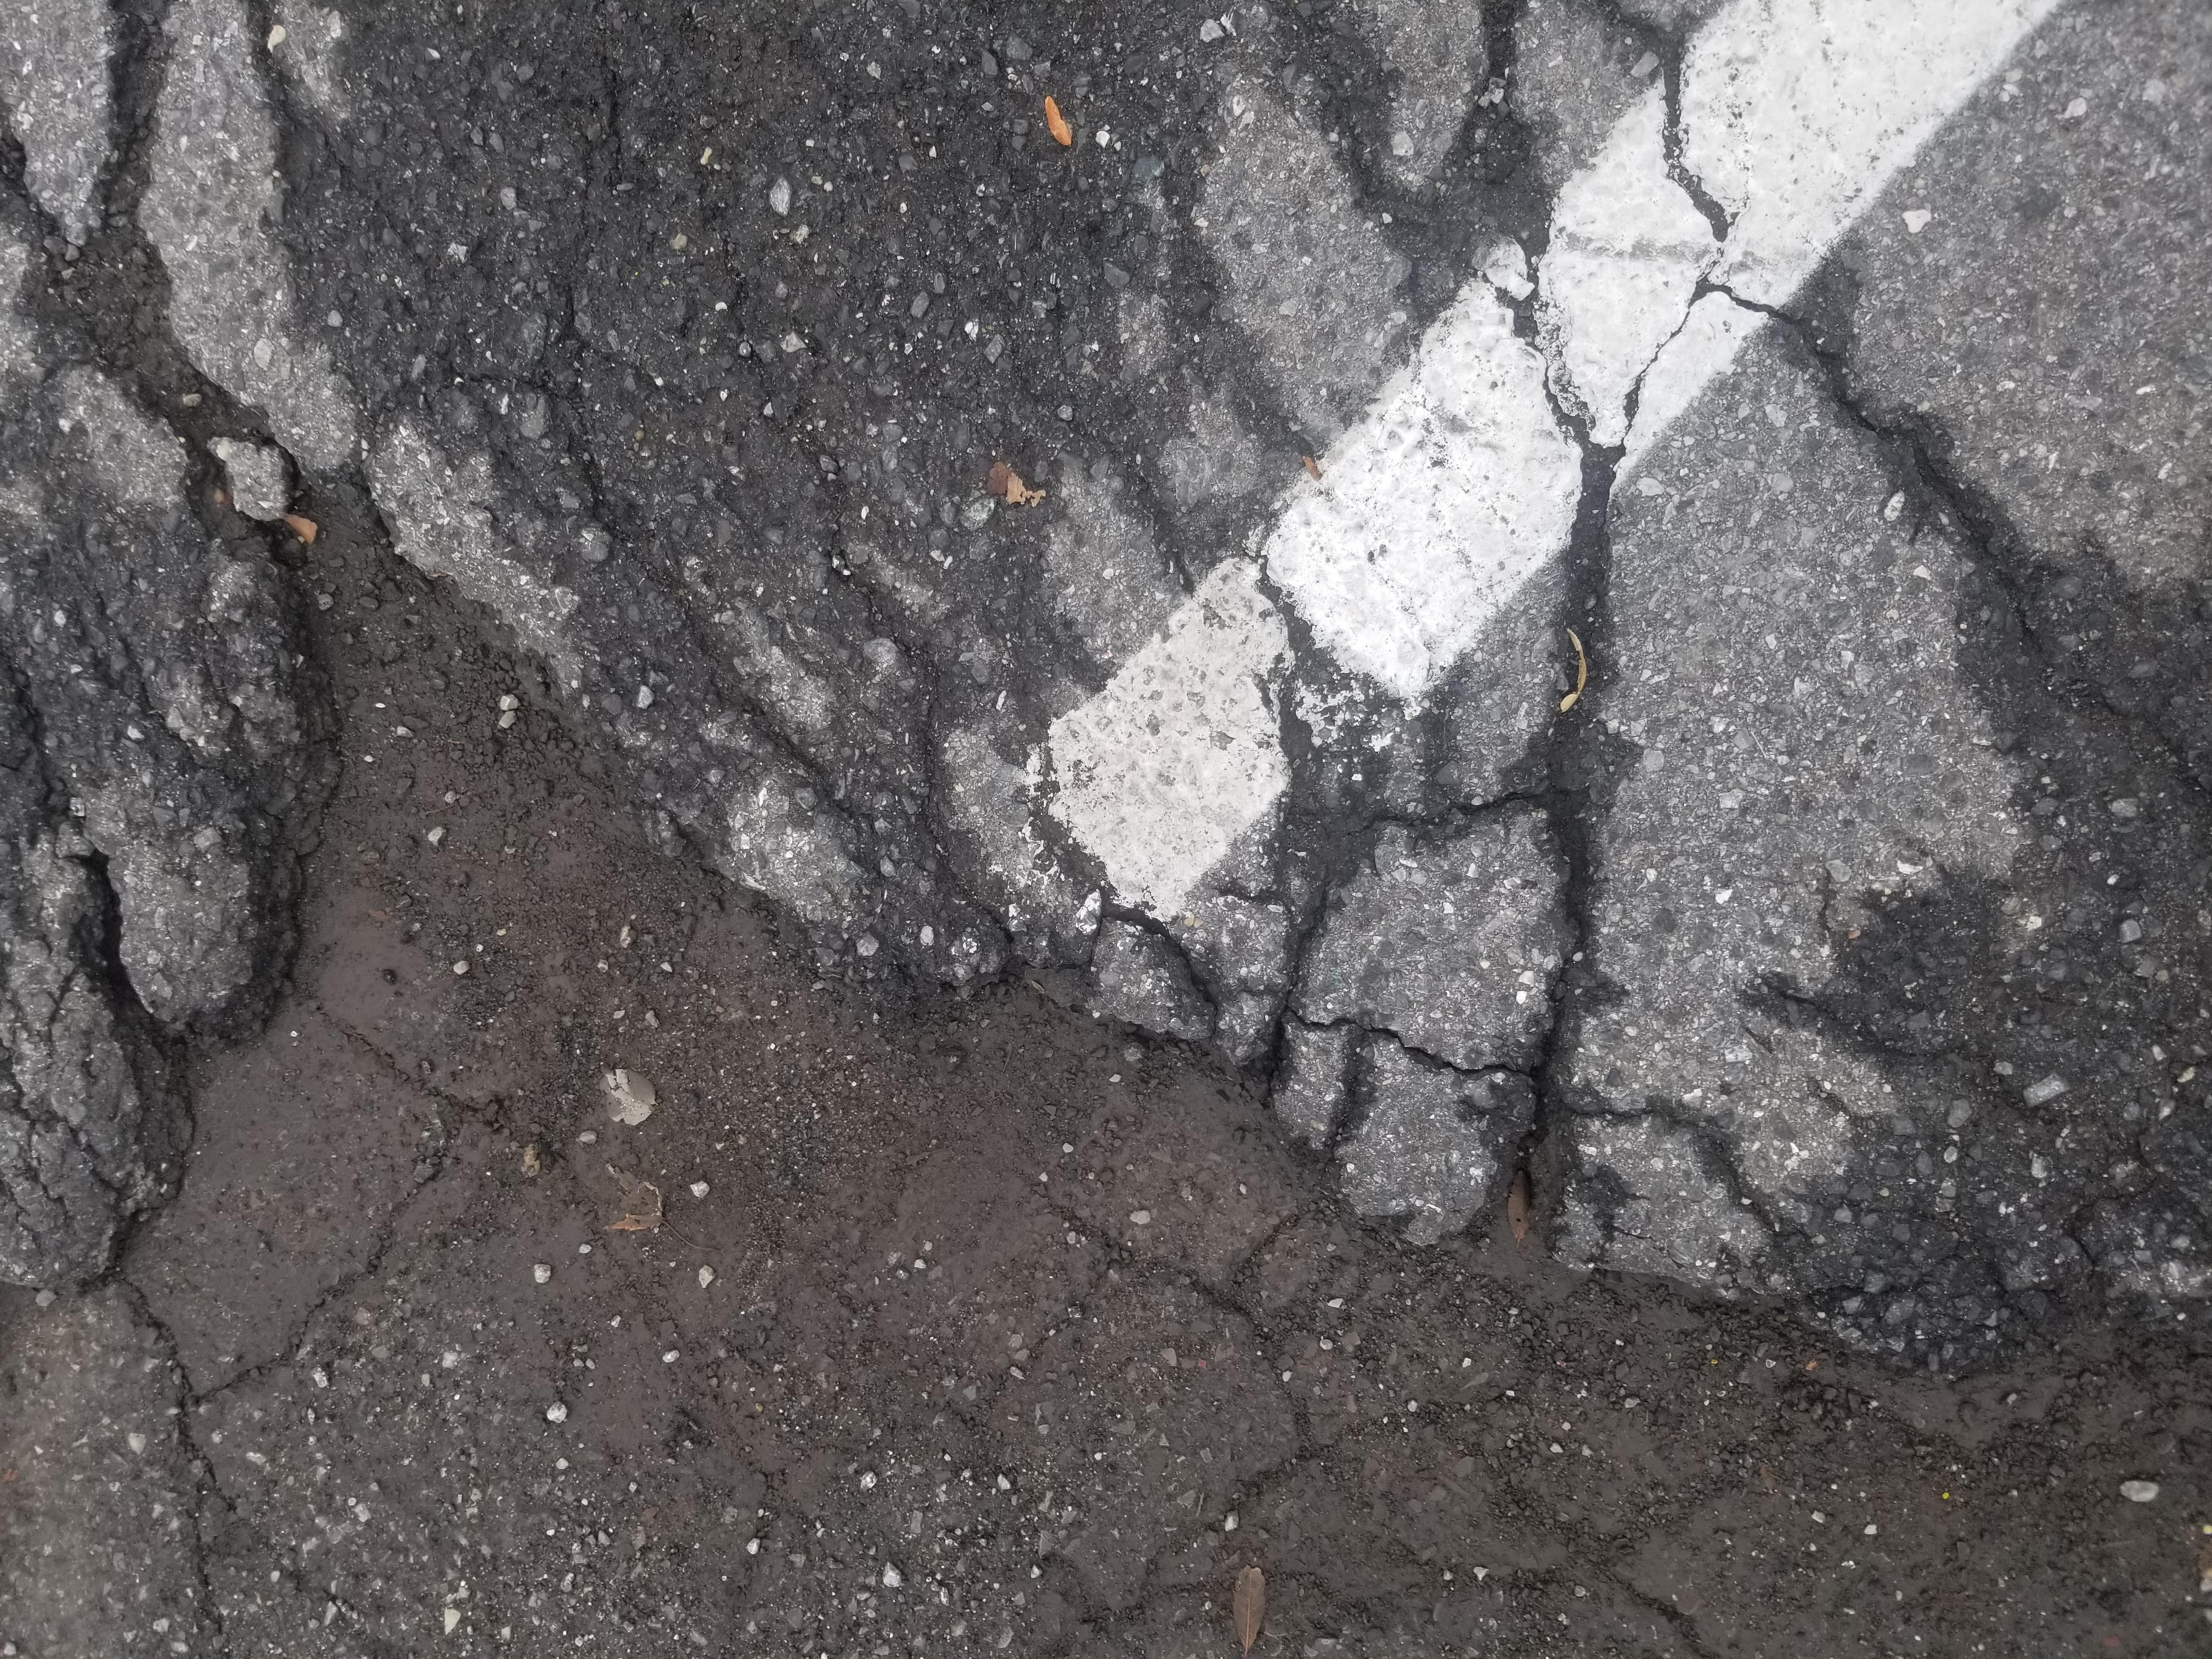alligator-crack: (0, 695, 1043, 1631)
crack: (1061, 1223, 2212, 1659), (658, 1049, 2212, 1215), (0, 112, 749, 373)
